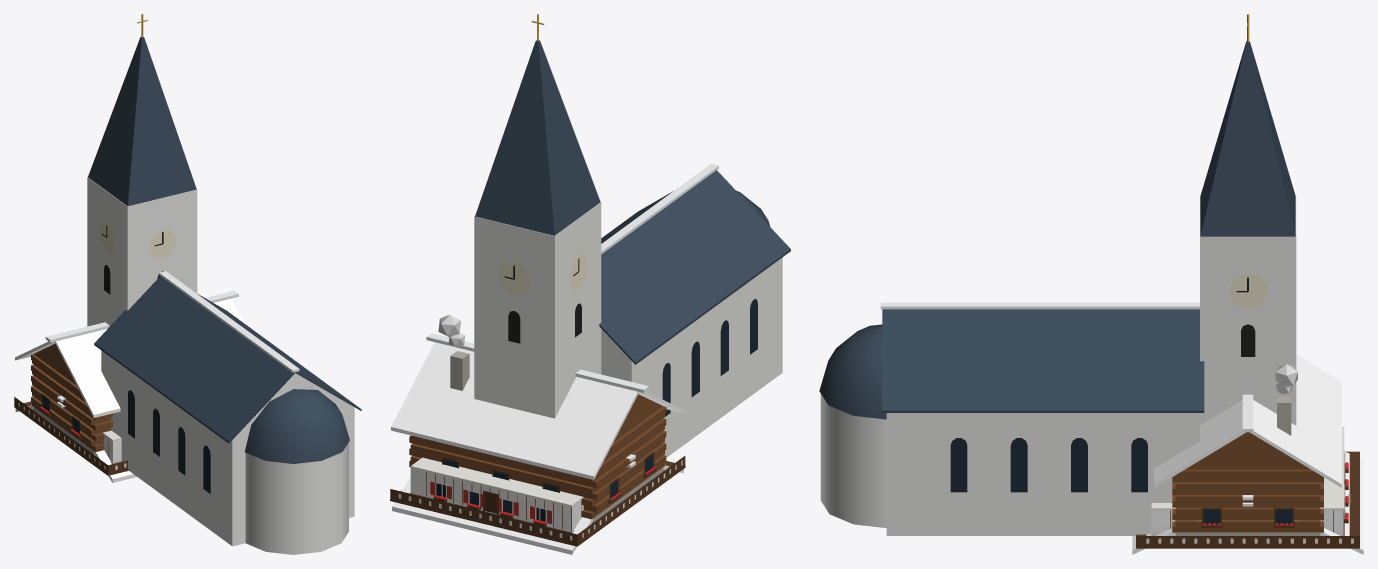
Rendered from city_alps.glb.
The picture shows the model from 3 angles, left to right: view 1: azimuth 30°, elevation 25°; view 2: azimuth 150°, elevation 25°; view 3: azimuth 270°, elevation 25°; orthographic projection. The views are drawn at different scales.
Parts seen in each view (by area): view 1: L_church, L_fondue, B0, G0; view 2: L_church, L_fondue, G0, B0, U0, R1, R0; view 3: L_church, L_fondue, B0, G0, U0, R1.
Part boxes in pixels (x1=…): L_church: x1=87, y1=14, x2=361, y2=554; L_fondue: x1=15, y1=290, x2=244, y2=455; B0: x1=14, y1=397, x2=128, y2=475; G0: x1=31, y1=385, x2=121, y2=464; L_church: x1=474, y1=14, x2=790, y2=457; L_fondue: x1=391, y1=314, x2=684, y2=523; G0: x1=410, y1=442, x2=665, y2=533; B0: x1=390, y1=442, x2=685, y2=546; U0: x1=412, y1=481, x2=583, y2=531; R1: x1=392, y1=461, x2=683, y2=552; R0: x1=392, y1=454, x2=683, y2=554; L_church: x1=819, y1=14, x2=1296, y2=535; L_fondue: x1=1154, y1=354, x2=1341, y2=535; B0: x1=1136, y1=451, x2=1359, y2=548; G0: x1=1151, y1=426, x2=1350, y2=535; U0: x1=1151, y1=451, x2=1348, y2=535; R1: x1=1132, y1=451, x2=1363, y2=553.
Bounding box in the file's own units: 21.6 × 45.34 × 45.2.
